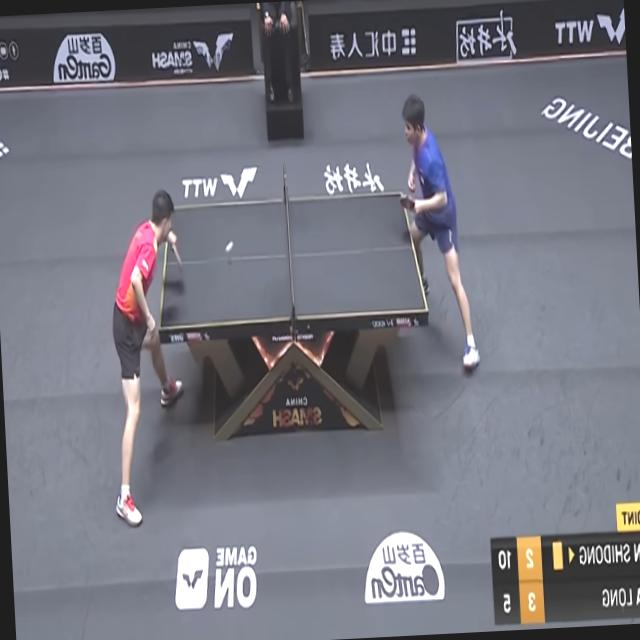TT Net: (281, 161, 298, 325)
TT Racket: (166, 238, 190, 274), (394, 191, 422, 218)
TT Table: (150, 191, 426, 331)
